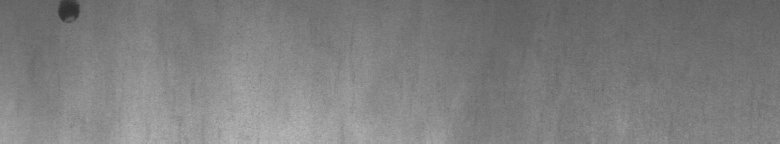fi: (52, 4, 88, 29)
